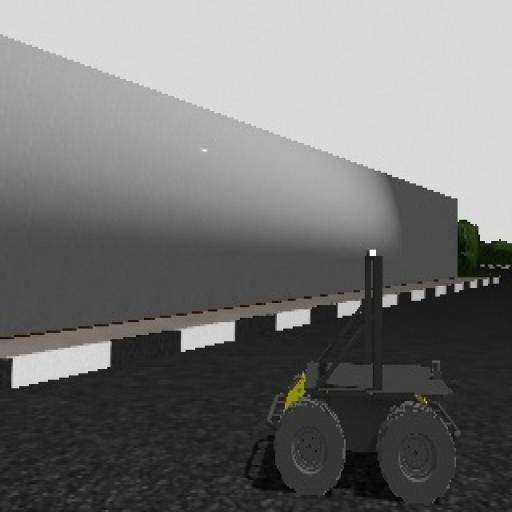huskya200: (248, 227, 463, 505)
